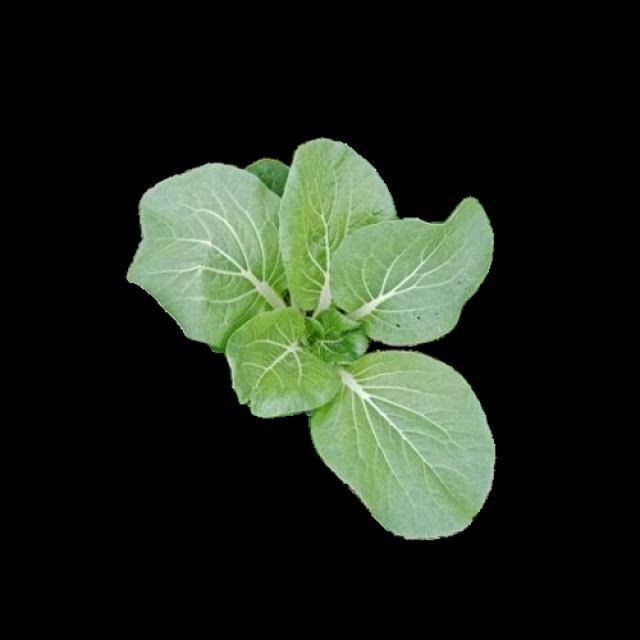healthy: (126, 135, 490, 538)
not-mature: (128, 137, 493, 540)
